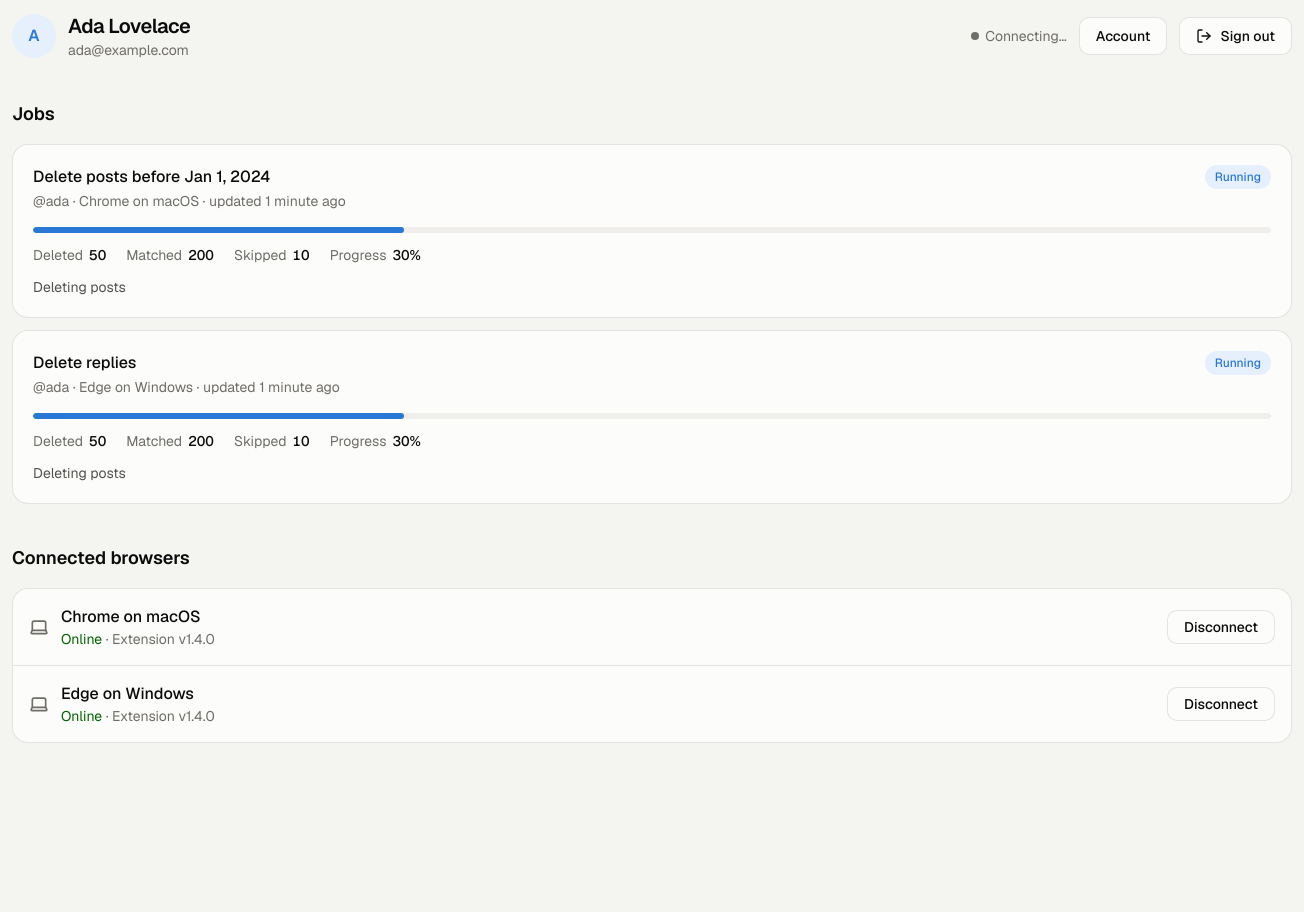
Scenario: Dashboard › connected browsers › disconnects a browser after confirming, and drops its jobs
Click the 1st button "Disconnect": (1221,627) left=1167, top=610, right=1275, bottom=644
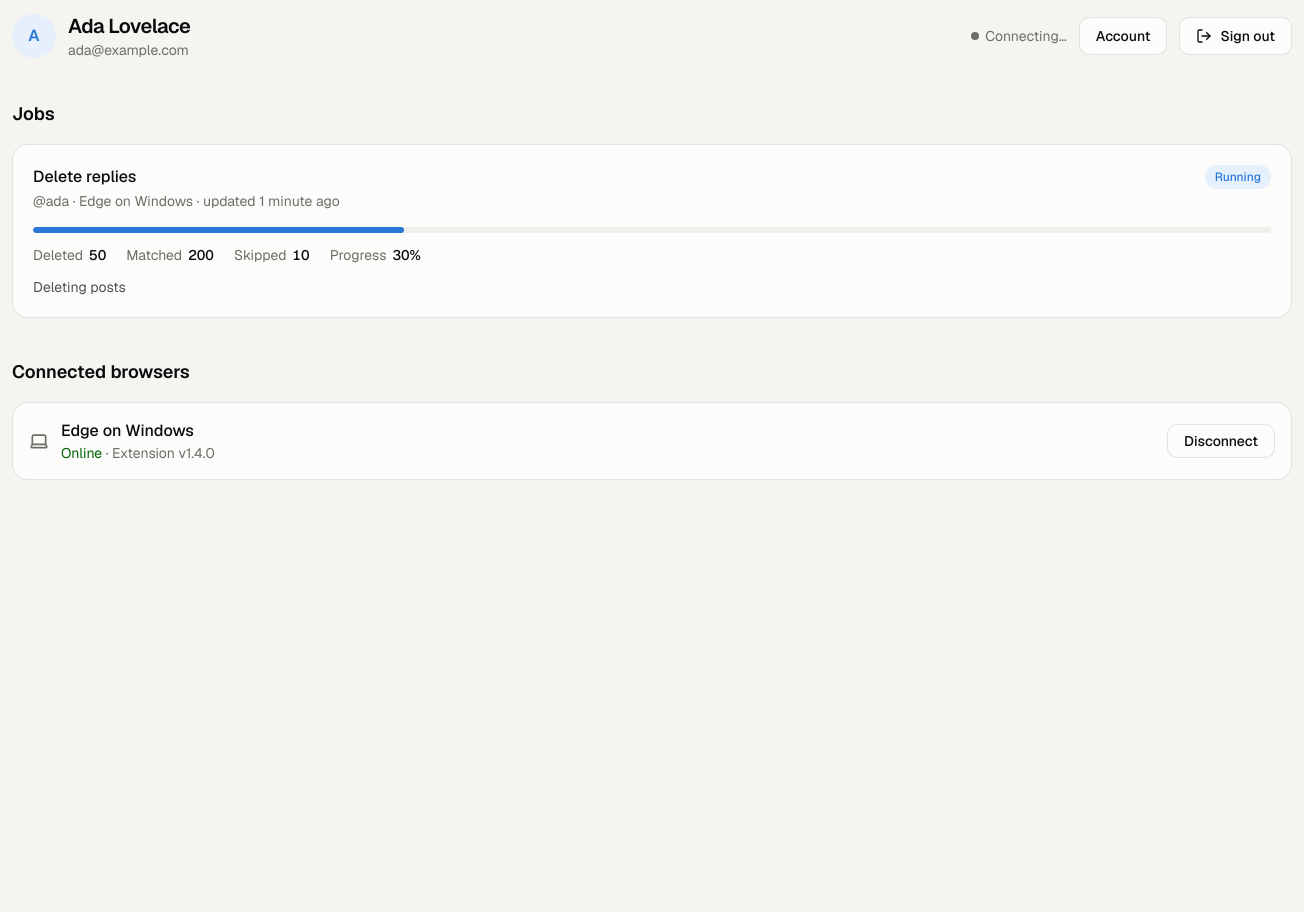
Check: the list item that starts with "Delete replies" is shown, box left=33, top=166, right=136, bottom=187
Check: the element "Connected browsers" no longer shows "Chrome on macOS", box left=12, top=358, right=1292, bottom=480
